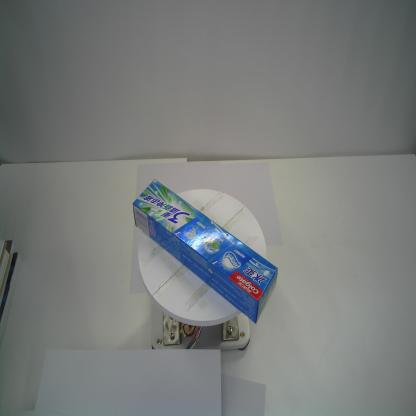Personal Hygiene: (131, 179, 279, 326)
